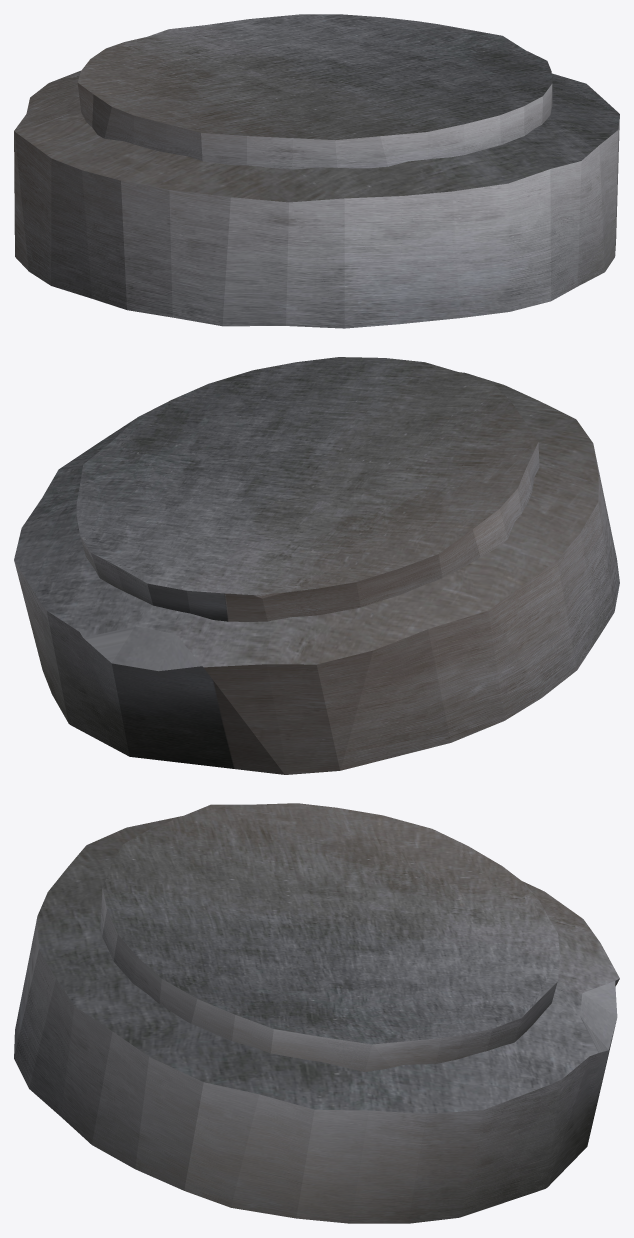
Rendered from Pedestal.fbx.
3 renders of one model, top to bottom at view 1: azimuth 30°, elevation 25°; view 2: azimuth 150°, elevation 25°; view 3: azimuth 270°, elevation 25°, orthographic. The views are drawn at different scales.
Visible parts, largest first — view 1: MonarchMesh.001; view 2: MonarchMesh.001; view 3: MonarchMesh.001.
Part boxes in pixels (<box>): MonarchMesh.001: <box>14,14,619,328</box>; MonarchMesh.001: <box>14,357,619,774</box>; MonarchMesh.001: <box>14,803,619,1223</box>.
Bounding box in the file's own units: 16.4 × 16.43 × 7.14.
